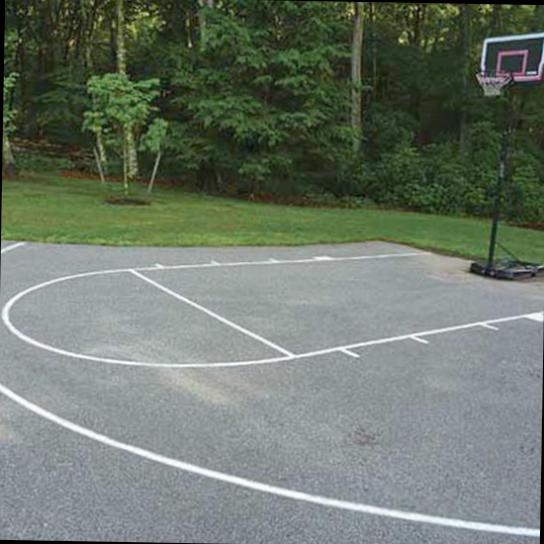basketball-hoop: (472, 66, 511, 98)
